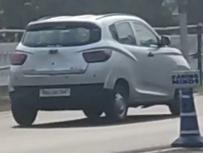Car: (6, 11, 195, 124)
